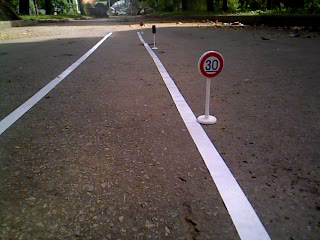limit 30: (196, 50, 227, 80)
